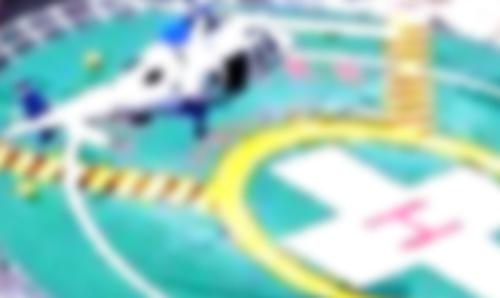Apron: (206, 96, 500, 295)
